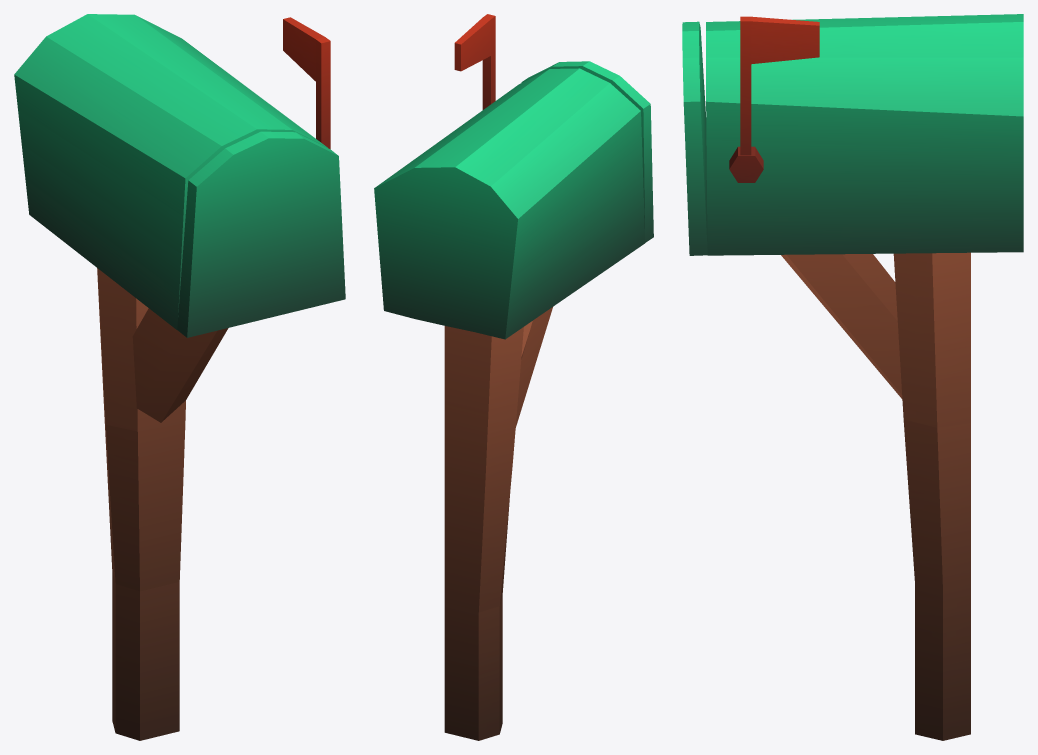
3 views of the same model, side by side, from view 1: azimuth 30°, elevation 25°; view 2: azimuth 150°, elevation 25°; view 3: azimuth 270°, elevation 25° (orthographic). The views are drawn at different scales.
Parts seen in each view (by area): view 1: 7.001; view 2: 7.001; view 3: 7.001.
Boxes of the visible parts, x1,y1,x2,y2 form: 7.001: (14, 14, 345, 740); 7.001: (374, 14, 653, 740); 7.001: (682, 14, 1023, 740).
Size of the model in its own units: 0.7957 by 3.16 by 1.31.
Materials: 1 (1 with a texture image).
